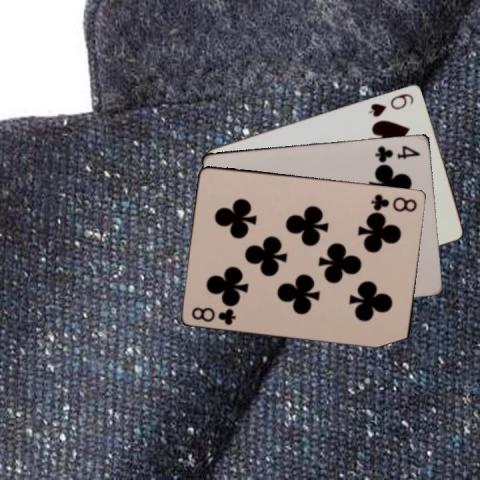4c: (372, 142, 421, 162)
6s: (366, 90, 416, 118)
8c: (189, 304, 237, 327), (368, 191, 419, 212)
